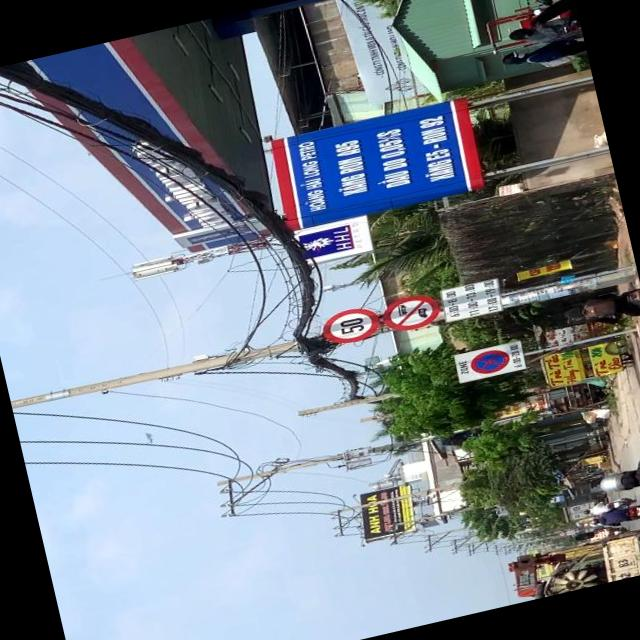P-127: (318, 303, 382, 347)
